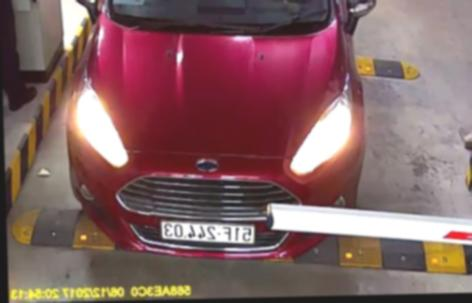License_Plate: (158, 216, 258, 247)
